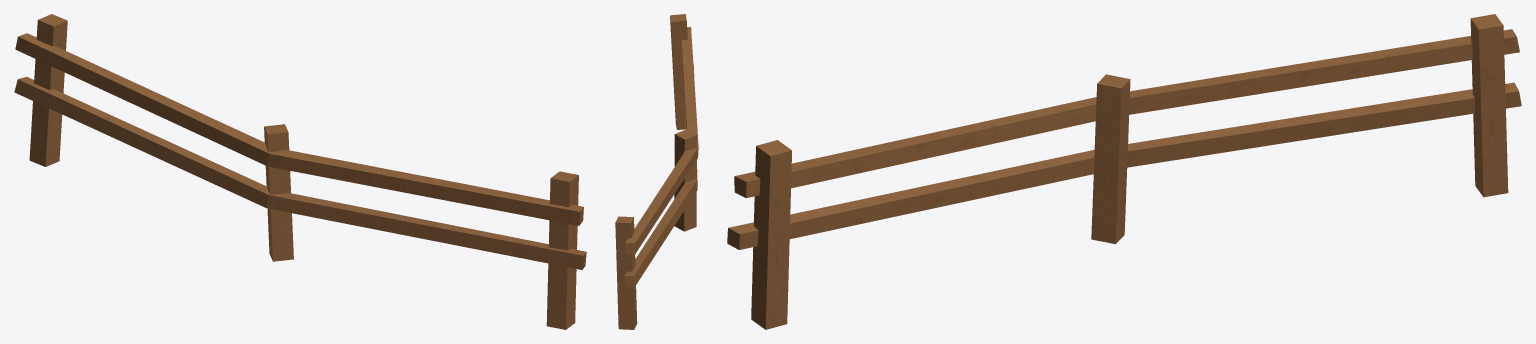
The model's file is part_fence_two.fbx.
3 views of the same model, side by side, from view 1: azimuth 30°, elevation 25°; view 2: azimuth 150°, elevation 25°; view 3: azimuth 270°, elevation 25° (orthographic). The views are drawn at different scales.
Visible parts, largest first — view 1: Cube.047; view 2: Cube.047; view 3: Cube.047.
Part boxes in pixels (<box>): Cube.047: <box>14,14,586,329</box>; Cube.047: <box>615,14,698,329</box>; Cube.047: <box>727,14,1521,329</box>.
Size of the model in its own units: 27.58 by 14.92 by 60.08.
1 material, 1 textured.
